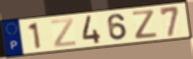1: (27, 21, 42, 50)
4: (82, 14, 103, 45)
6: (107, 13, 129, 42)
7: (159, 6, 181, 38)
Z: (131, 9, 159, 41), (50, 17, 78, 49)
